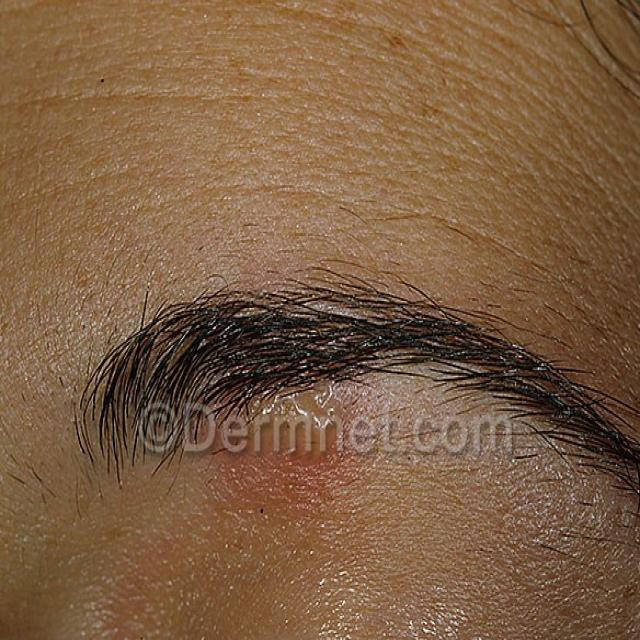Viral Infections: (201, 367, 409, 504)
